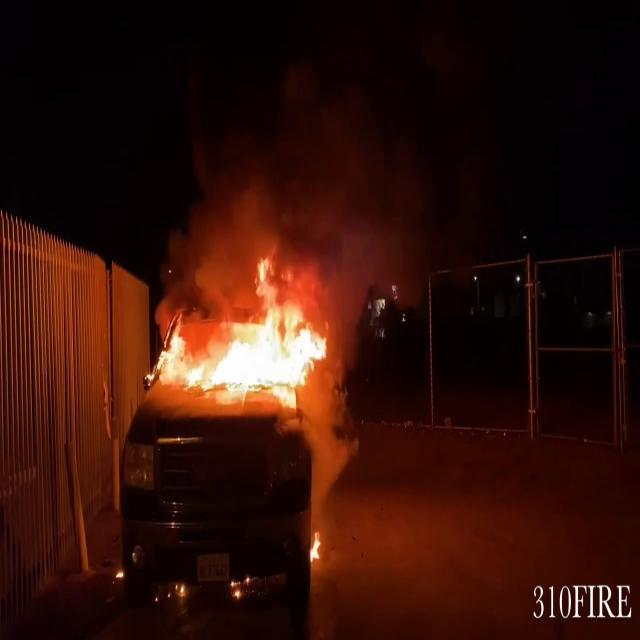Fire: (148, 272, 332, 410)
Smoke: (168, 35, 442, 305)
